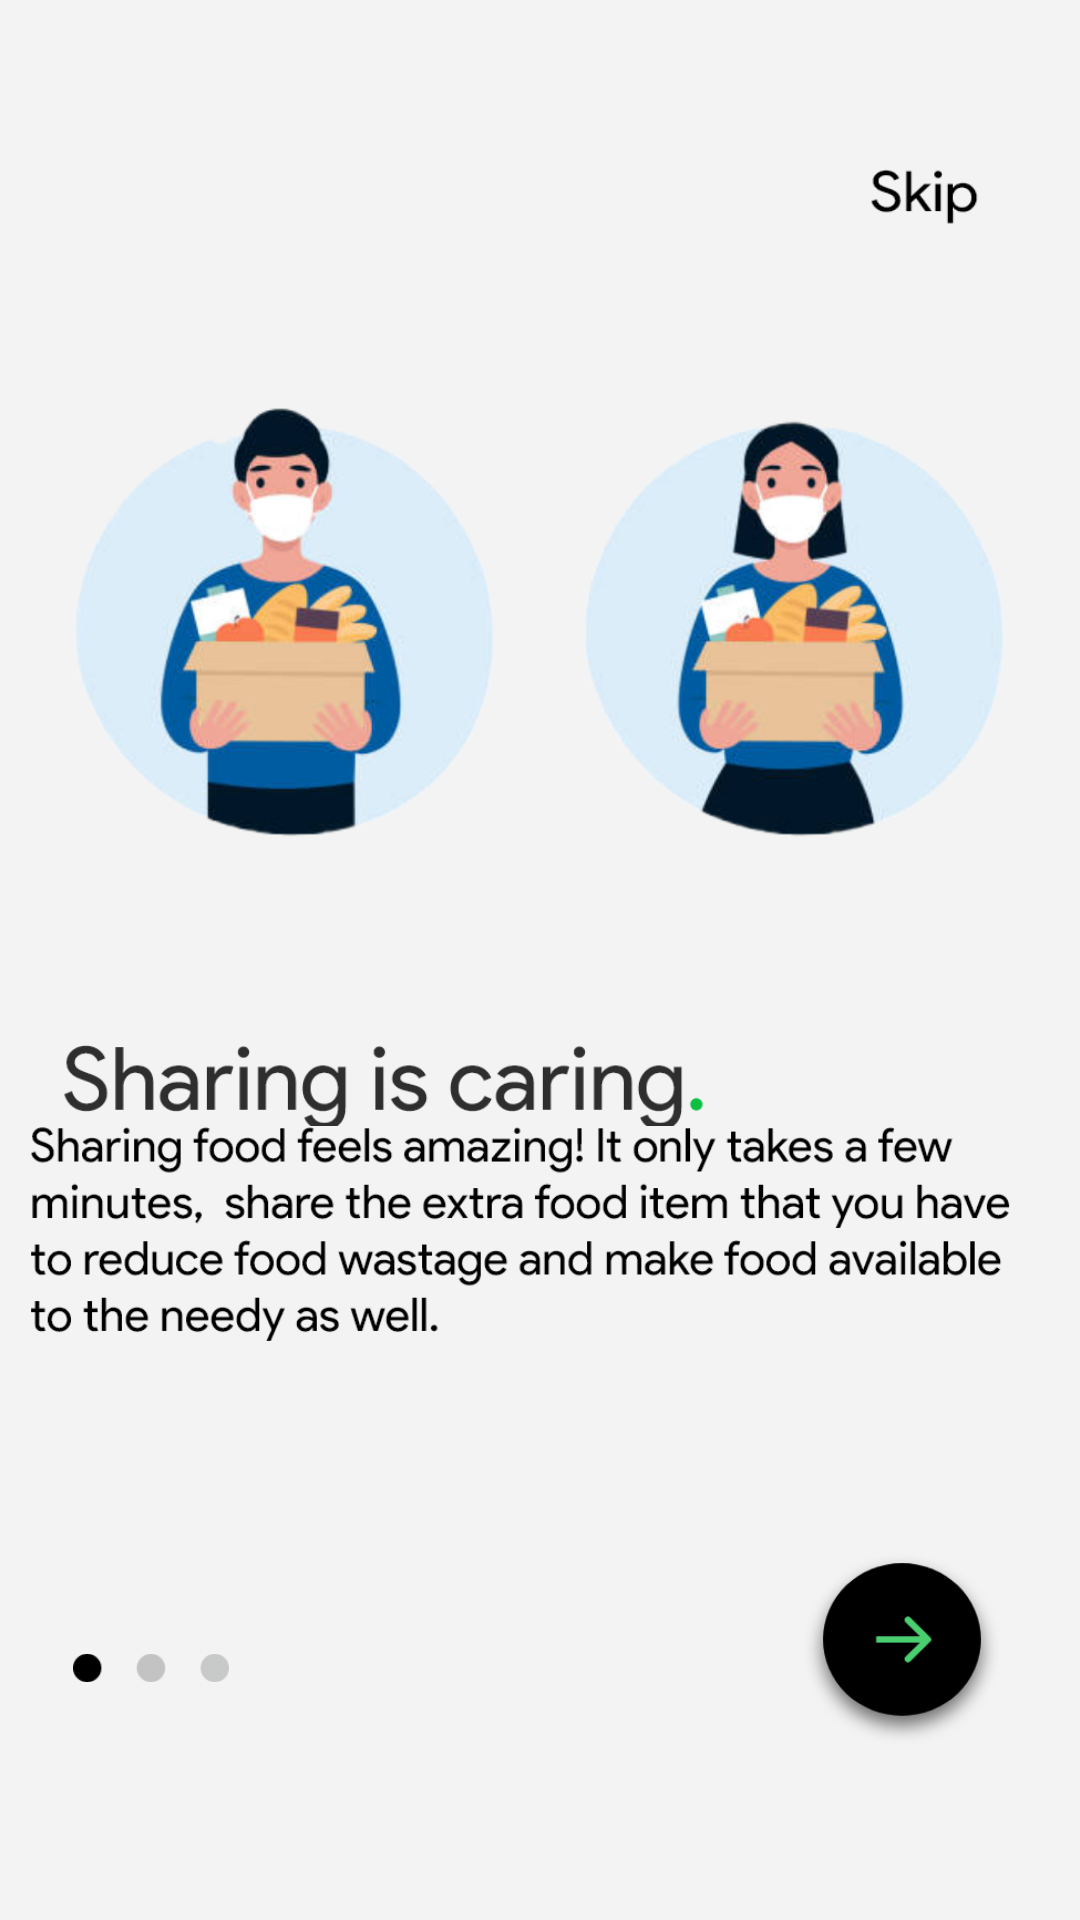

Where icons sit on this 1080 x 1920 app screen, as (x1, y1, x2, y2):
pager dots: (73, 1654, 229, 1682)
